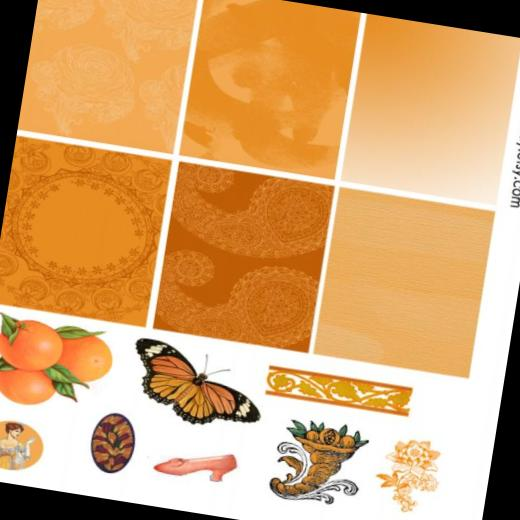Grape: (54, 329, 121, 387), (0, 317, 61, 371), (0, 366, 59, 411)
